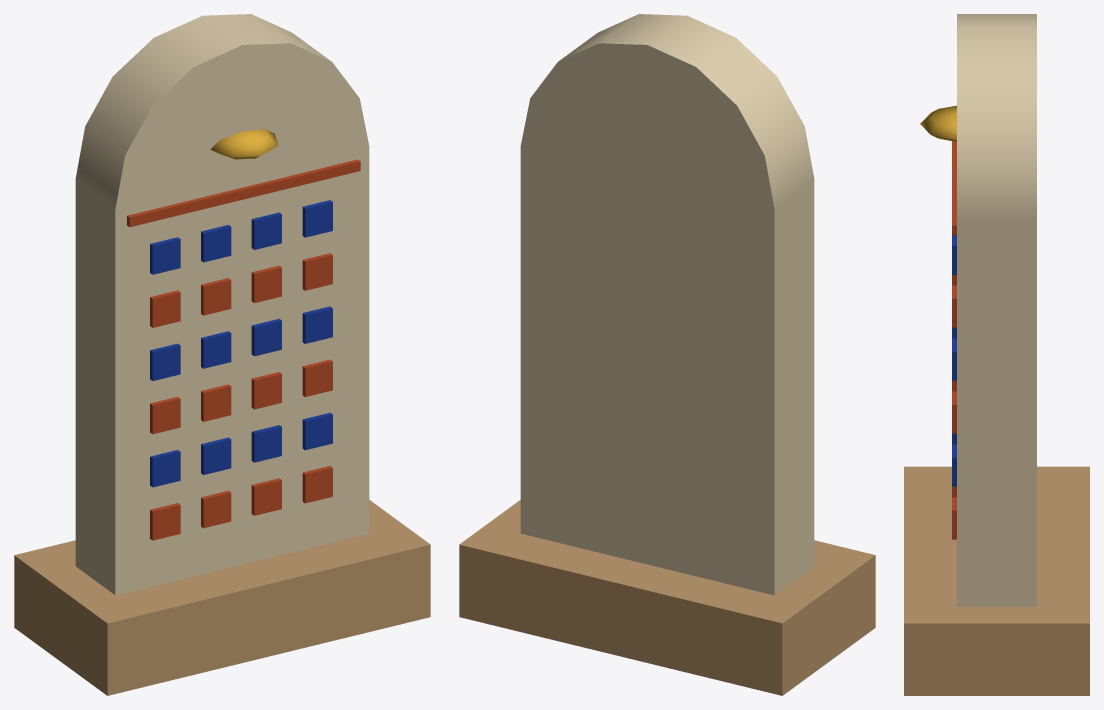
The model's file is eg_stele.glb.
3 renders of one model, left to right at view 1: azimuth 30°, elevation 25°; view 2: azimuth 150°, elevation 25°; view 3: azimuth 270°, elevation 25°, orthographic.
Parts seen in each view (by area): view 1: eg_stele; view 2: eg_stele; view 3: eg_stele.
Boxes of the visible parts, x1,y1,x2,y2 form: eg_stele: (14, 14, 430, 695); eg_stele: (459, 14, 875, 695); eg_stele: (904, 14, 1089, 695).
Bounding box in the file's own units: 1.4 × 2.45 × 0.7.
